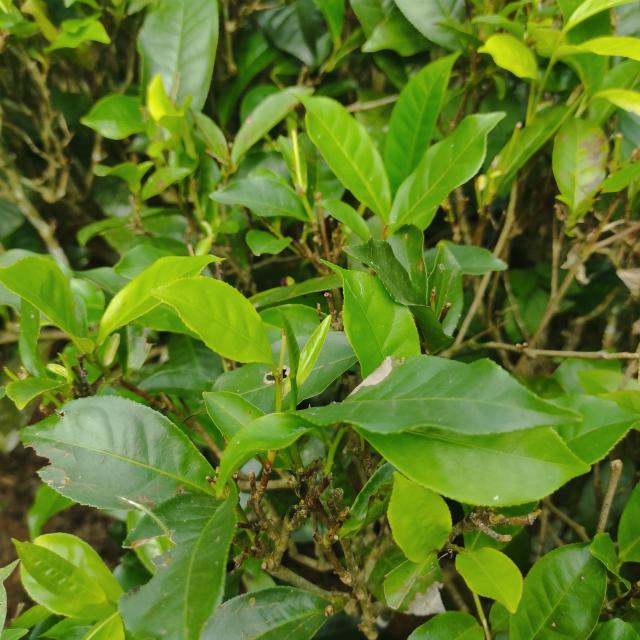unopened_leaf: (276, 302, 302, 402)
